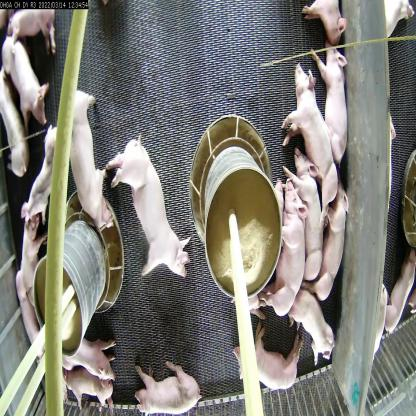Pig: (101, 122, 191, 289), (60, 95, 121, 236), (284, 68, 338, 190), (282, 266, 330, 376), (228, 322, 299, 396), (286, 145, 324, 281), (316, 44, 355, 154), (312, 186, 346, 307), (4, 38, 48, 129), (277, 183, 308, 309), (130, 366, 203, 416), (66, 323, 116, 384), (13, 204, 48, 286), (22, 134, 52, 223), (60, 366, 113, 416)
